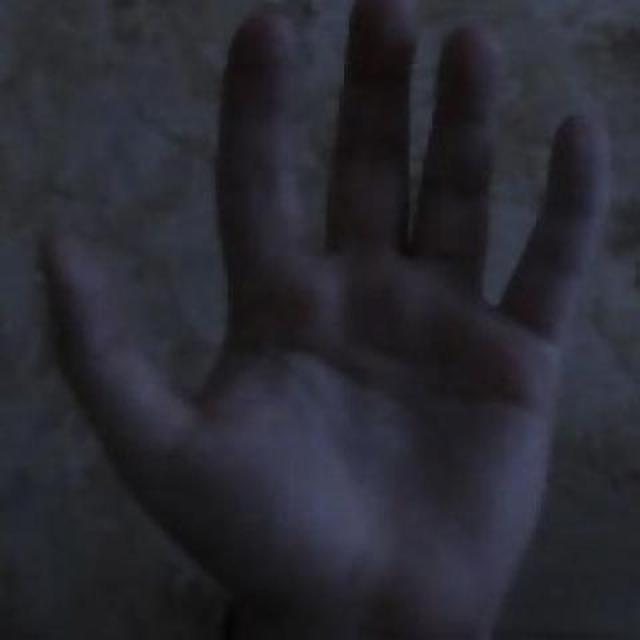Open Hand: (28, 0, 612, 640)
